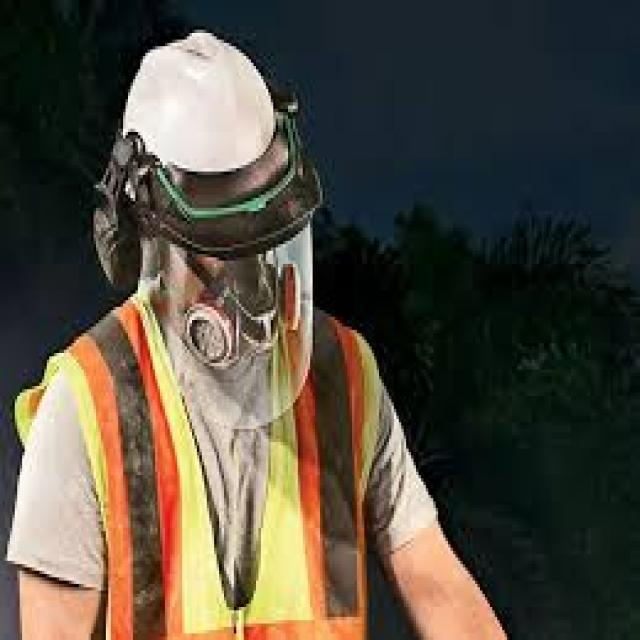mask: (166, 245, 306, 371)
